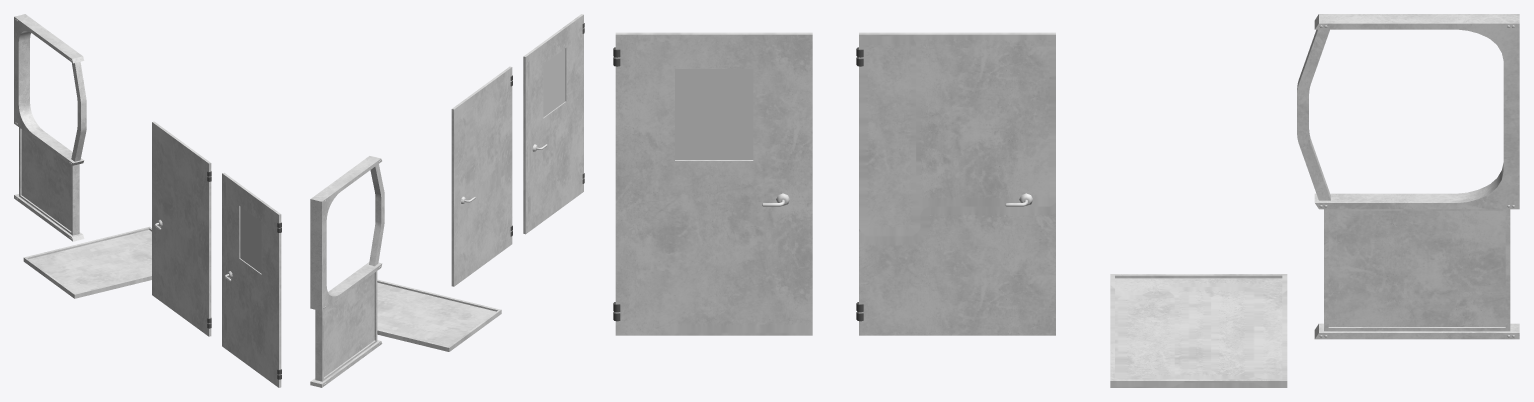
Rendered from interior.fbx.
The picture shows the model from 3 angles, left to right: view 1: azimuth 30°, elevation 25°; view 2: azimuth 150°, elevation 25°; view 3: azimuth 270°, elevation 25°; orthographic projection. The views are drawn at different scales.
Visible parts, largest first — view 1: door_2, door_1, wall, desk; view 2: door_2, door_1, wall, desk; view 3: door_1, door_2, wall, desk.
Boxes of the visible parts, <box> form: door_2: <box>152,121,211,336</box>; door_1: <box>222,172,281,387</box>; wall: <box>14,14,86,241</box>; desk: <box>23,226,151,298</box>; door_2: <box>451,66,512,286</box>; door_1: <box>523,14,584,234</box>; wall: <box>310,156,384,387</box>; desk: <box>377,279,501,351</box>; door_1: <box>613,32,812,335</box>; door_2: <box>856,32,1055,335</box>; wall: <box>1297,14,1519,339</box>; desk: <box>1110,274,1287,387</box>.
Bounding box in the file's own units: 162 × 223 × 581.
2 materials, 1 textured.
